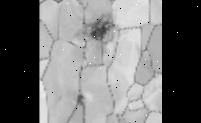good_void: (82, 17, 116, 41), (76, 92, 88, 108)
